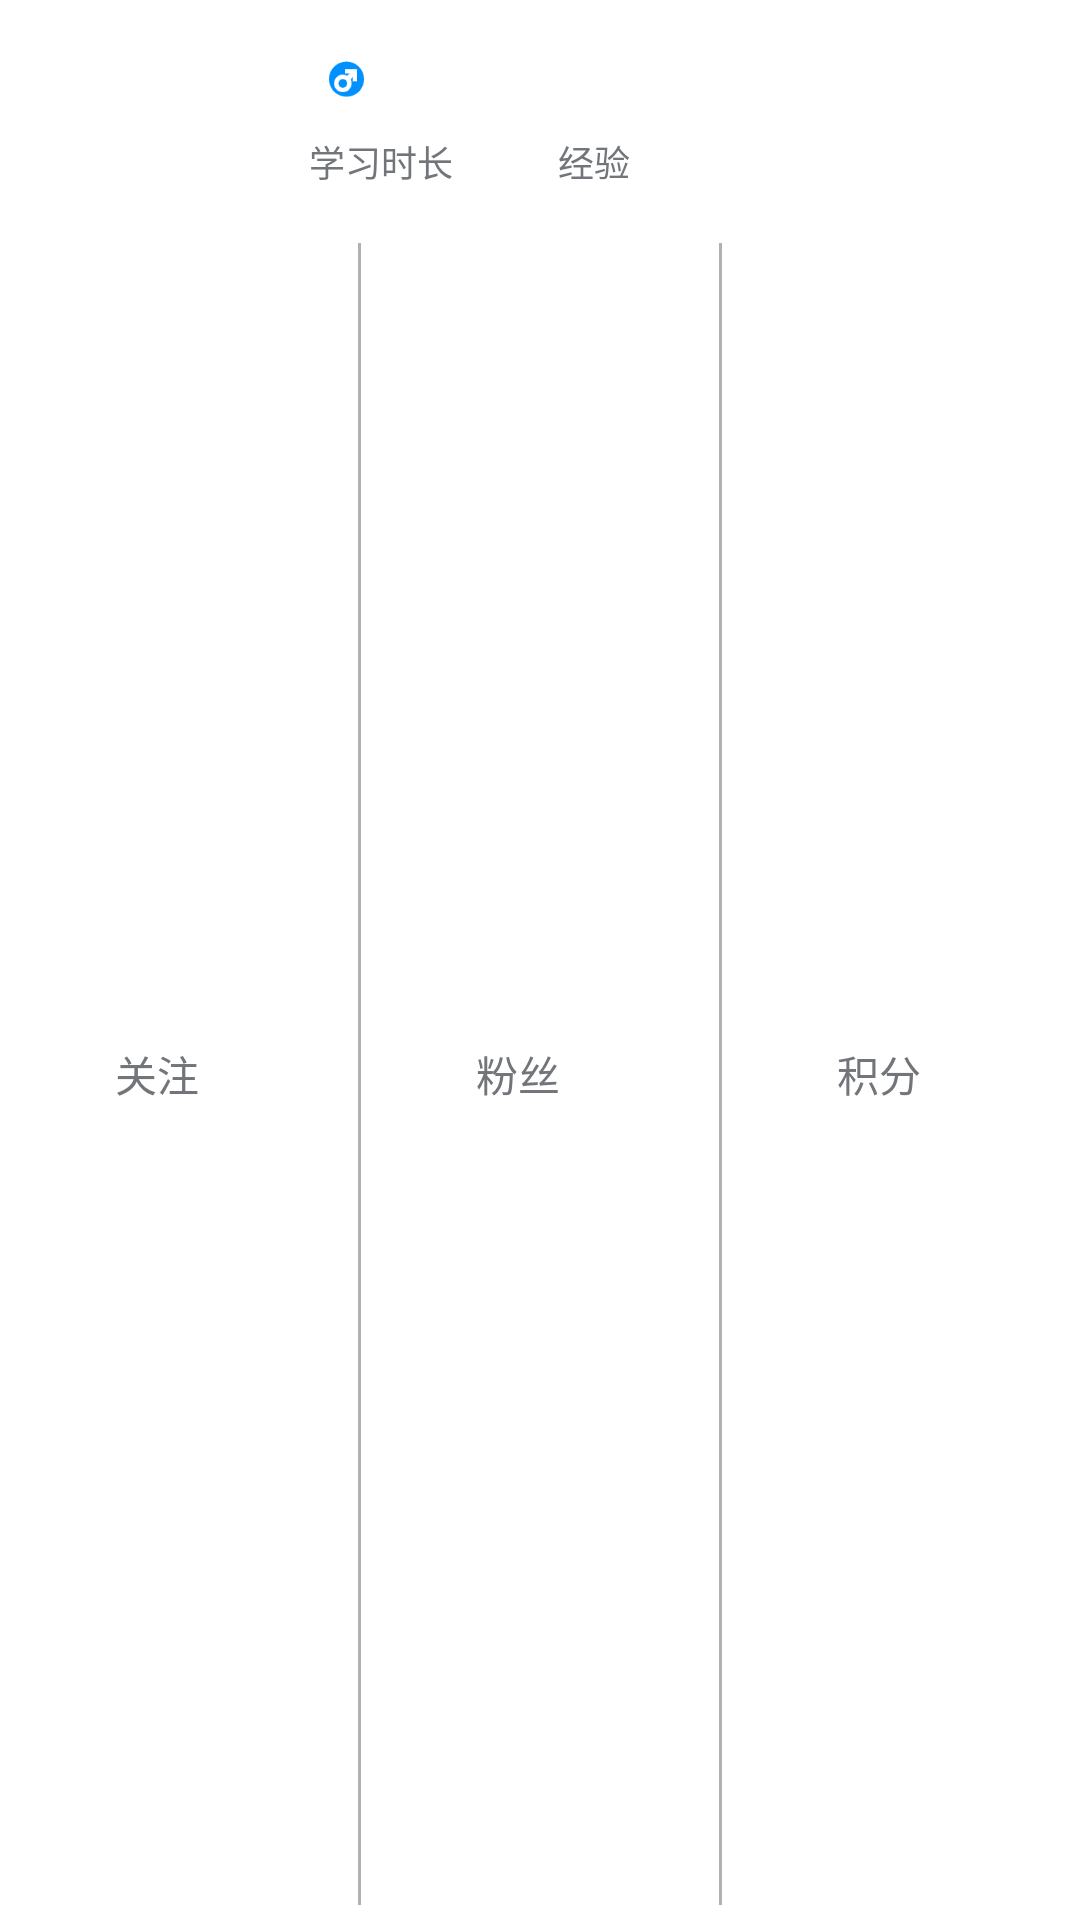

Where to tap for icons on this 1080px x 1920px app screen, as (x=x, y=y):
gender man: (x=346, y=79)
